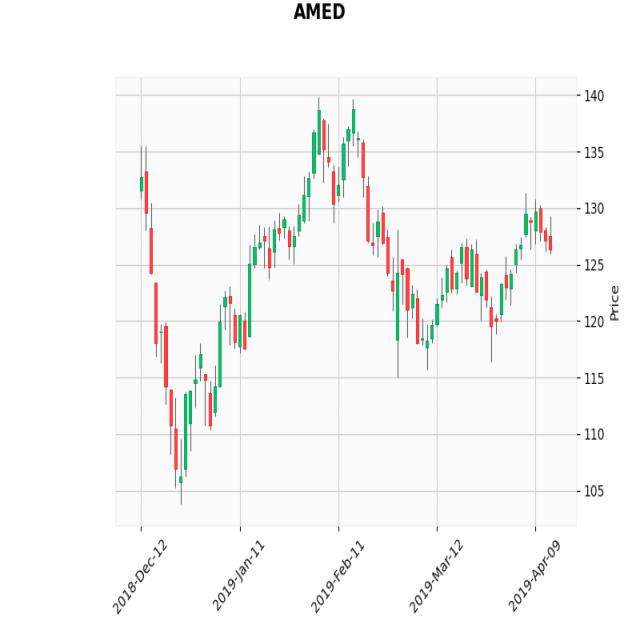Double-Top: (289, 91, 387, 263)
